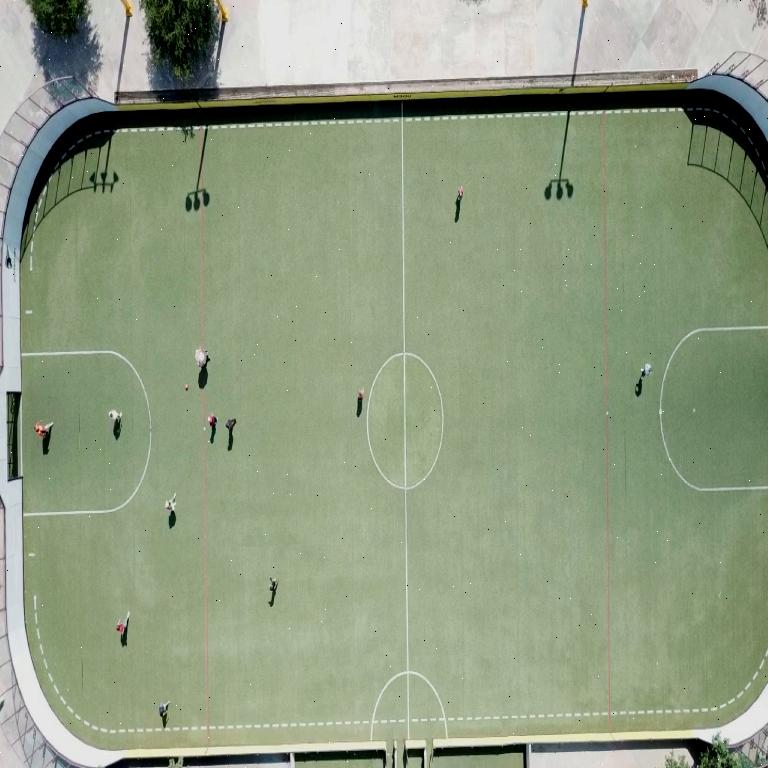AC: (22, 350, 151, 517), (658, 326, 767, 491)
B: (185, 384, 188, 389)
MC: (400, 103, 409, 739)
P: (115, 613, 128, 637), (34, 422, 52, 438), (195, 348, 208, 367), (158, 701, 170, 720), (640, 363, 651, 378), (165, 493, 174, 511), (108, 410, 120, 423), (225, 419, 235, 433), (268, 578, 277, 593), (207, 413, 215, 428), (456, 186, 462, 202), (359, 387, 365, 399)
